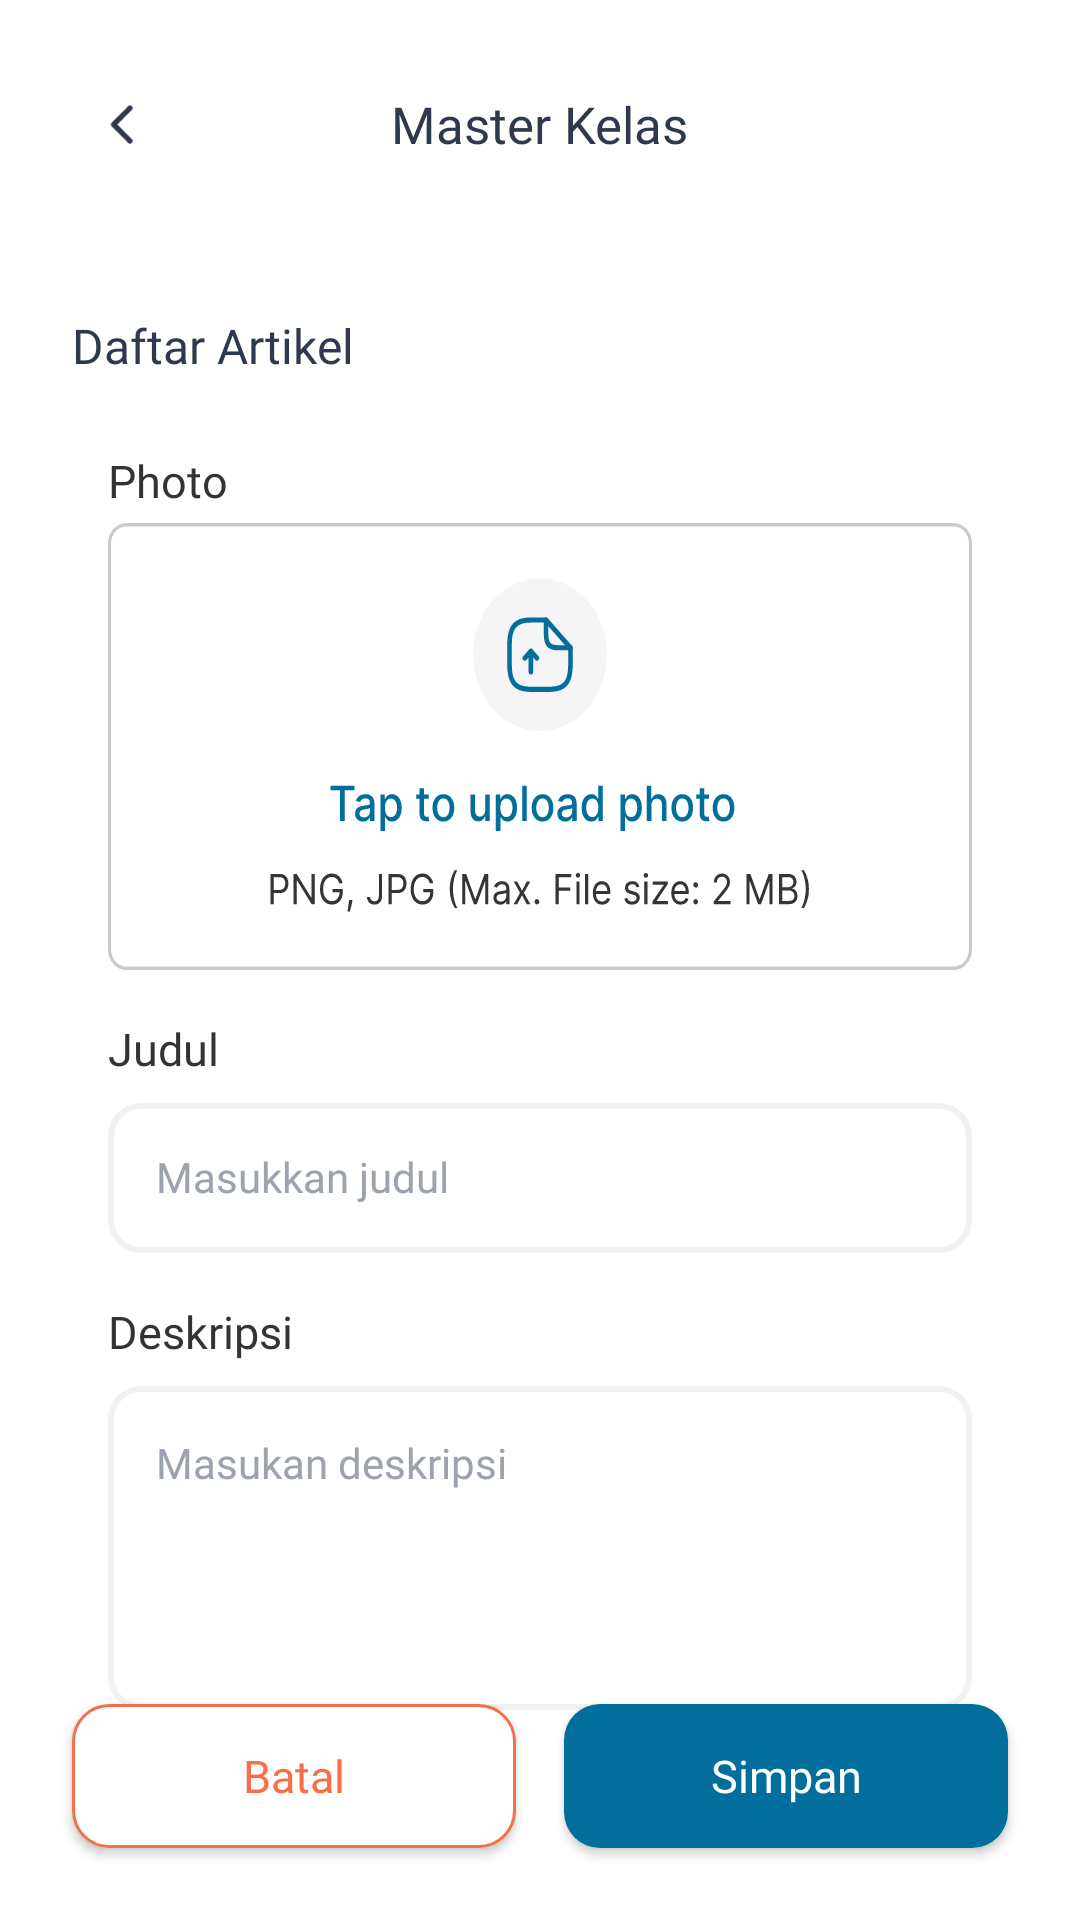

Icon click points for this 1080 x 1920 phone screenshot, format [x,y]:
chevron back: [121,124]
